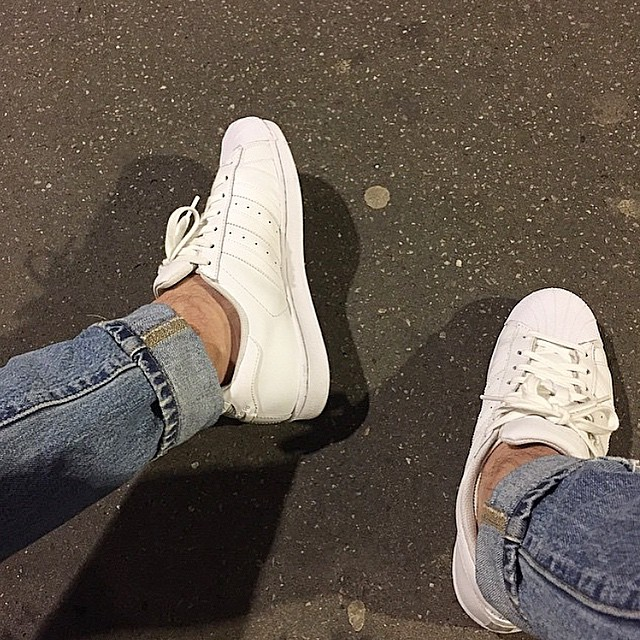sneaker: (124, 105, 355, 447), (424, 265, 633, 640)
